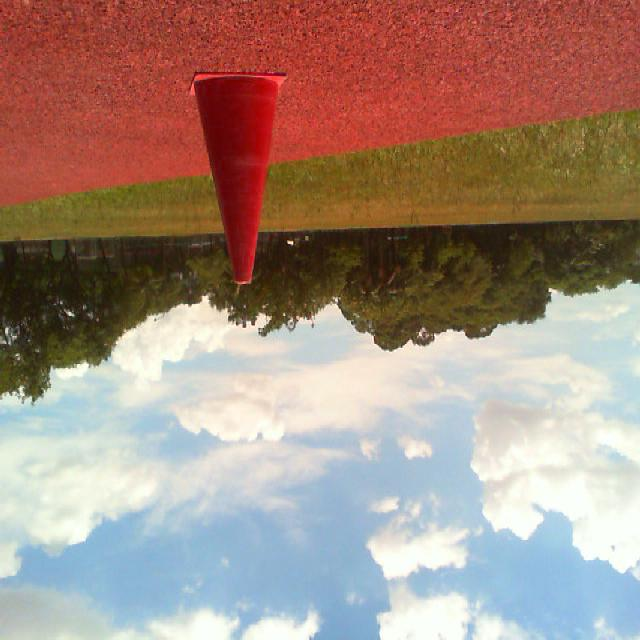cone: (188, 73, 286, 284)
